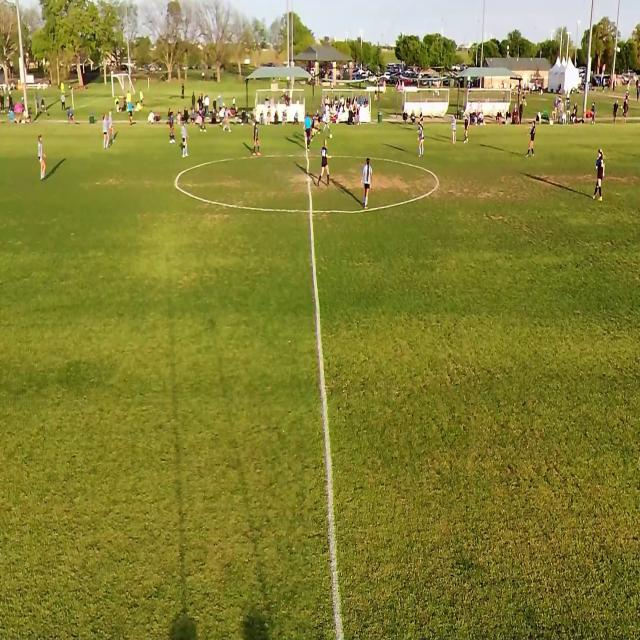ball: (329, 133, 333, 140)
team1: (319, 140, 330, 189), (596, 148, 606, 201), (526, 118, 538, 159), (168, 112, 176, 146), (254, 118, 261, 156), (462, 112, 469, 144), (200, 106, 207, 133), (316, 109, 321, 135), (418, 108, 426, 124), (312, 114, 315, 145)
team2: (362, 159, 373, 213), (38, 134, 48, 181), (109, 110, 118, 148), (183, 120, 191, 159), (102, 111, 109, 151), (417, 119, 424, 158), (322, 110, 332, 134), (452, 116, 458, 146), (226, 107, 232, 134)
